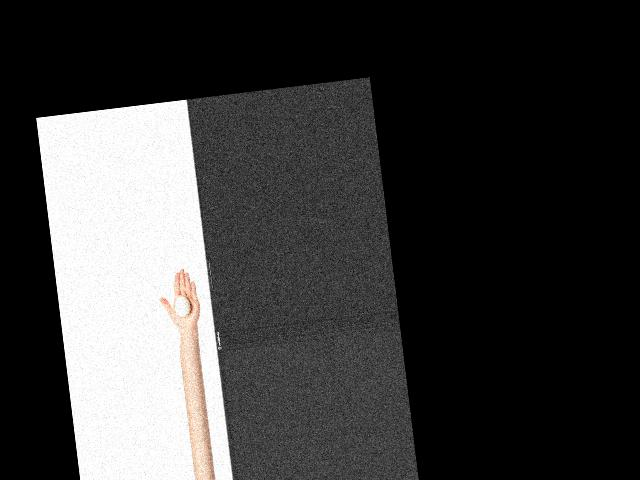egg: (174, 294, 191, 317)
